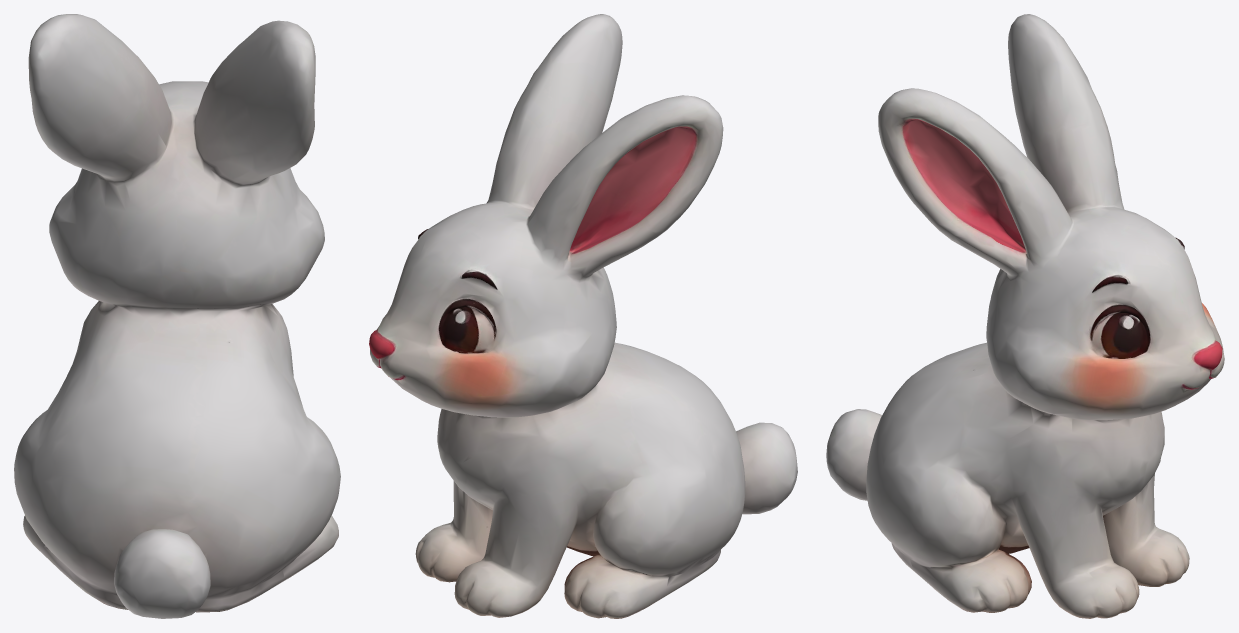
The model's file is rabbit.glb.
3 views of the same model, side by side, from view 1: azimuth 30°, elevation 25°; view 2: azimuth 150°, elevation 25°; view 3: azimuth 270°, elevation 25° (orthographic). The views are drawn at different scales.
Visible parts, largest first — view 1: tripo_node_3a0acdc8-1b72-4019-9626-4d17fa893d6d; view 2: tripo_node_3a0acdc8-1b72-4019-9626-4d17fa893d6d; view 3: tripo_node_3a0acdc8-1b72-4019-9626-4d17fa893d6d.
Part boxes in pixels (<box>): tripo_node_3a0acdc8-1b72-4019-9626-4d17fa893d6d: <box>14,14,340,618</box>; tripo_node_3a0acdc8-1b72-4019-9626-4d17fa893d6d: <box>369,14,797,618</box>; tripo_node_3a0acdc8-1b72-4019-9626-4d17fa893d6d: <box>826,14,1224,618</box>.
Size of the model in its own units: 0.1482 by 0.25 by 0.183.
1 material, 1 textured.
